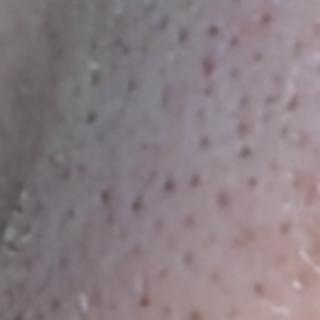Pores: (232, 227, 255, 248), (82, 288, 101, 311), (304, 180, 318, 209), (213, 192, 234, 211), (289, 39, 304, 63), (199, 55, 215, 77), (74, 161, 90, 183), (150, 218, 168, 236), (0, 239, 19, 256), (236, 144, 255, 161), (289, 169, 306, 188), (296, 127, 310, 149), (186, 173, 203, 191), (180, 214, 200, 229), (259, 110, 276, 127), (234, 122, 252, 138), (180, 253, 199, 268), (87, 70, 101, 90), (157, 92, 173, 109), (262, 90, 280, 105), (144, 169, 157, 189), (205, 22, 221, 38), (246, 176, 262, 192), (161, 178, 176, 195), (209, 268, 224, 285), (159, 305, 176, 320), (49, 296, 63, 314), (129, 196, 143, 214), (225, 35, 242, 49), (294, 275, 309, 290), (236, 94, 252, 108), (85, 110, 98, 127), (269, 72, 286, 85), (286, 93, 299, 110), (249, 50, 264, 64), (177, 28, 190, 44), (127, 79, 140, 95), (269, 160, 285, 173), (111, 35, 123, 52), (98, 187, 110, 204), (88, 39, 99, 57), (138, 295, 152, 309), (45, 151, 59, 165), (62, 206, 75, 221), (253, 281, 266, 296), (138, 41, 151, 56), (119, 43, 131, 59), (156, 15, 168, 31), (59, 168, 71, 184), (279, 219, 291, 235), (0, 120, 10, 139), (32, 199, 46, 212), (273, 295, 286, 309), (116, 228, 129, 242), (95, 128, 108, 142), (195, 109, 207, 124), (278, 123, 290, 138), (205, 234, 220, 246), (158, 265, 169, 281), (186, 309, 202, 320), (223, 307, 236, 320), (157, 65, 170, 78), (20, 257, 34, 269), (229, 66, 241, 80), (131, 244, 143, 258), (4, 286, 16, 299), (106, 212, 118, 225), (199, 135, 208, 152), (13, 202, 25, 214), (59, 254, 68, 270), (259, 14, 272, 25), (21, 223, 31, 237), (200, 85, 214, 95), (139, 140, 149, 152), (108, 145, 117, 158), (16, 280, 26, 291), (33, 310, 44, 320), (11, 313, 24, 320)
